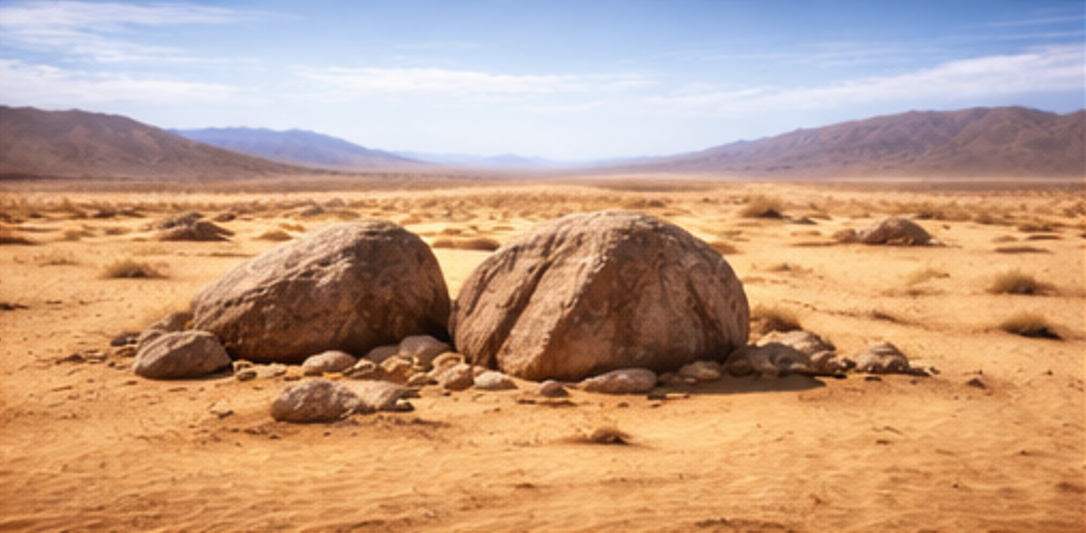rocks: (449, 210, 748, 380), (193, 220, 448, 361), (271, 380, 408, 421), (132, 330, 230, 377), (724, 341, 809, 377), (835, 217, 938, 244), (855, 341, 927, 374), (157, 212, 233, 241), (576, 367, 655, 393), (300, 349, 357, 374), (473, 369, 516, 390)
